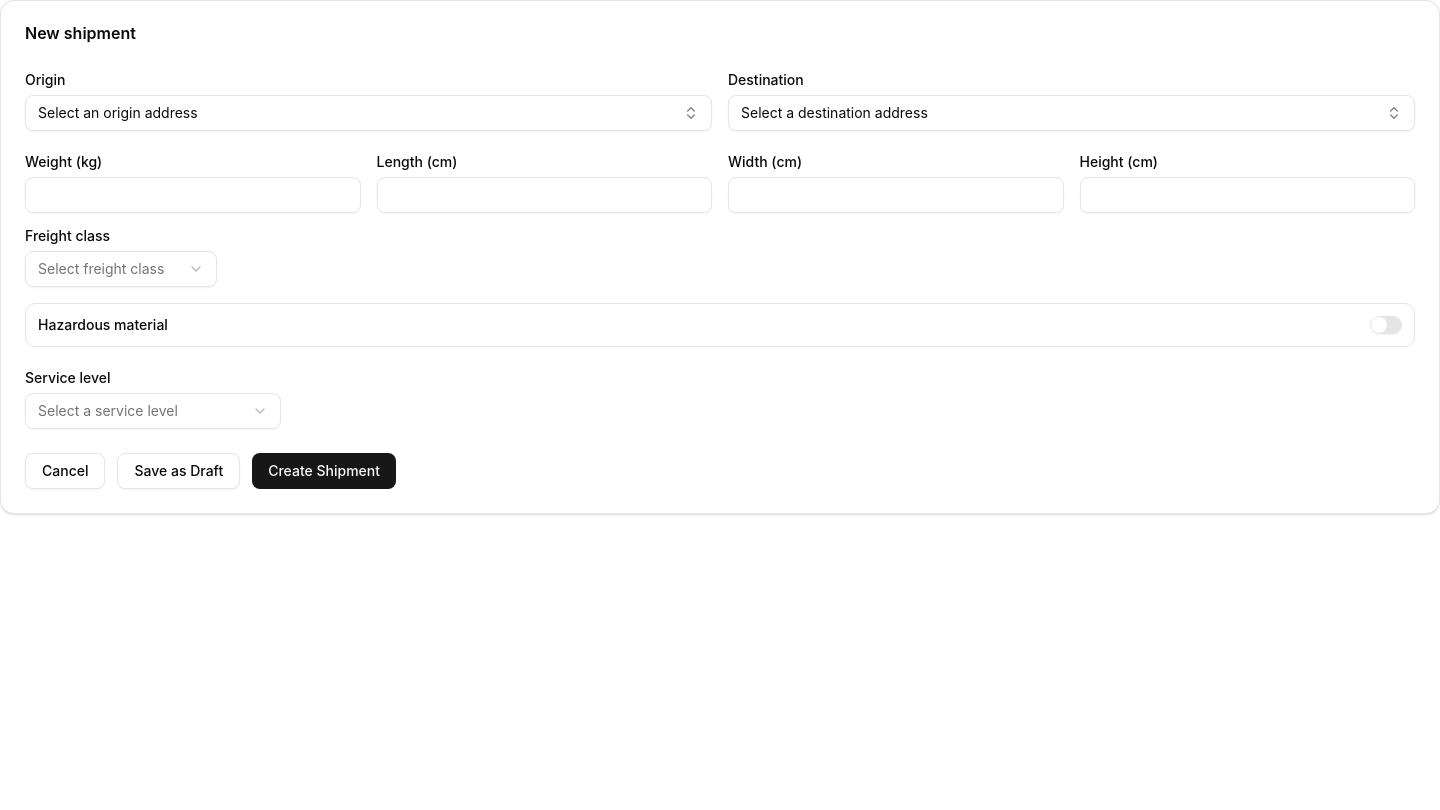
Test: NewShipmentPage › shows a visible error and does not navigate away when saving a draft fails
What coordinates should you click on to do the following:
click the button "Save as Draft"
I would click on:
 (179, 471)
Its box is [118, 453, 240, 489].
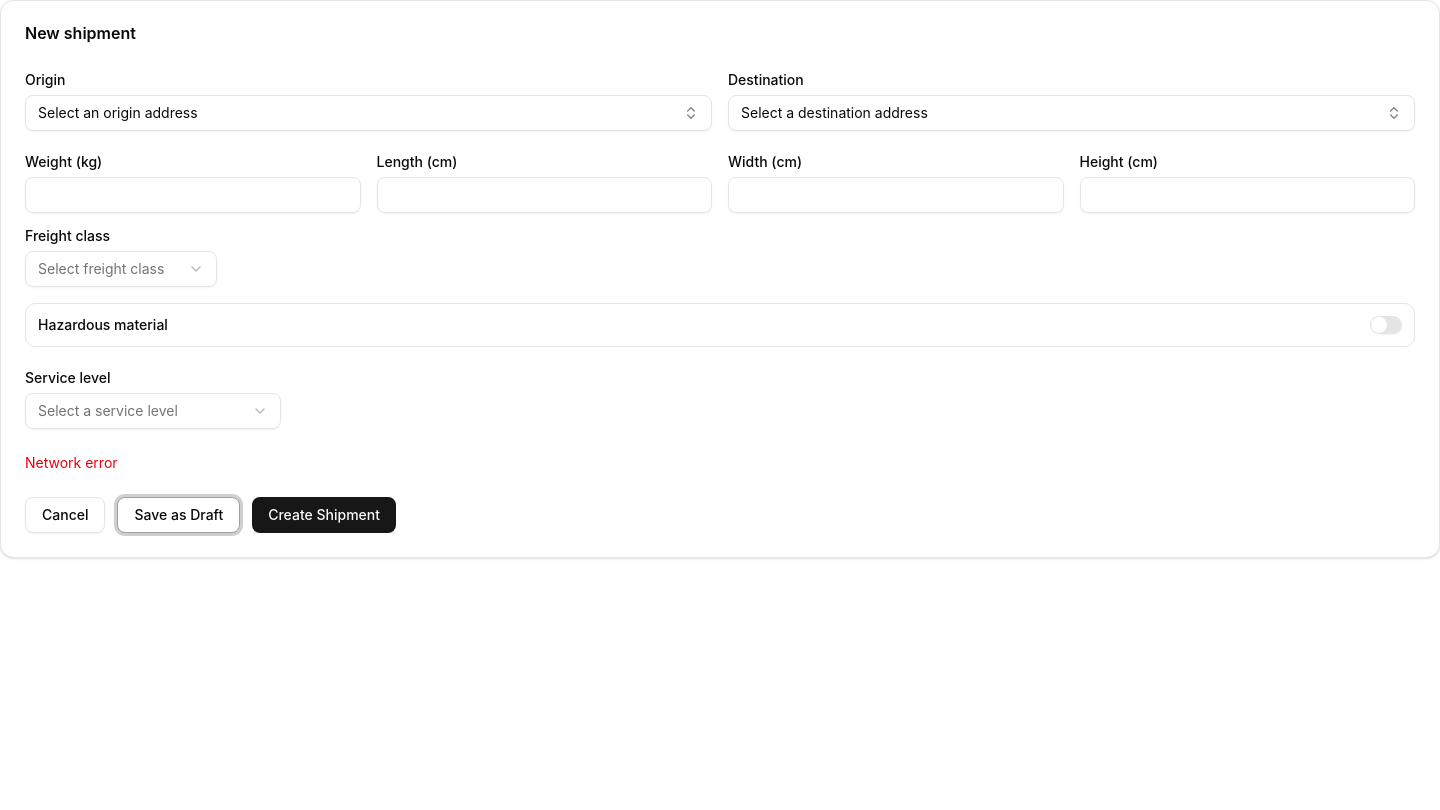
Now the message reads "Network error", box [25, 454, 118, 471]
